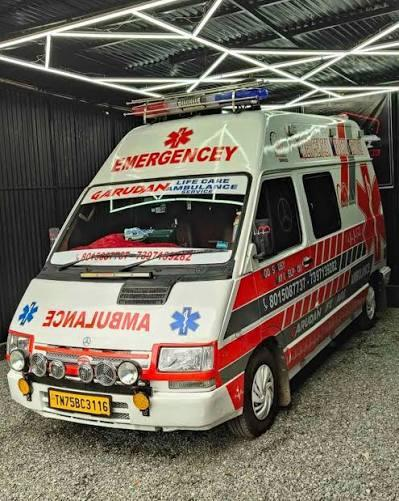ambulance: (9, 87, 388, 437)
